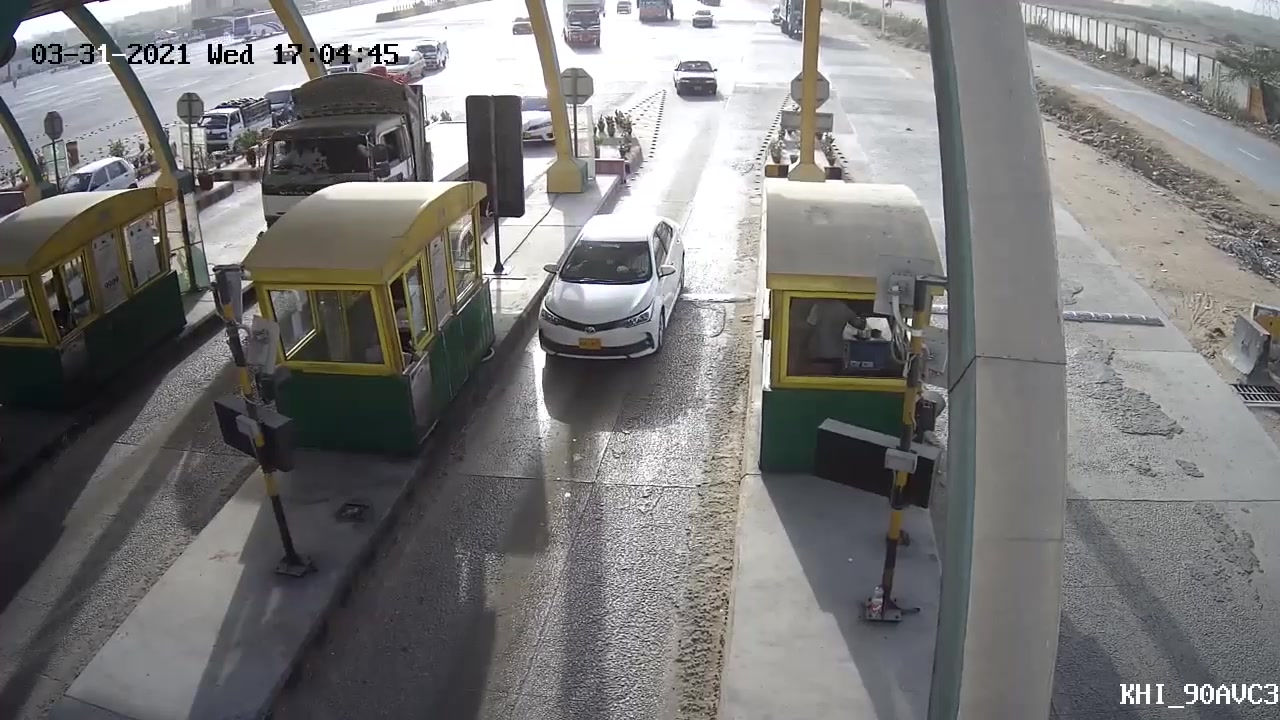F1: (537, 212, 690, 369), (661, 46, 726, 104)
